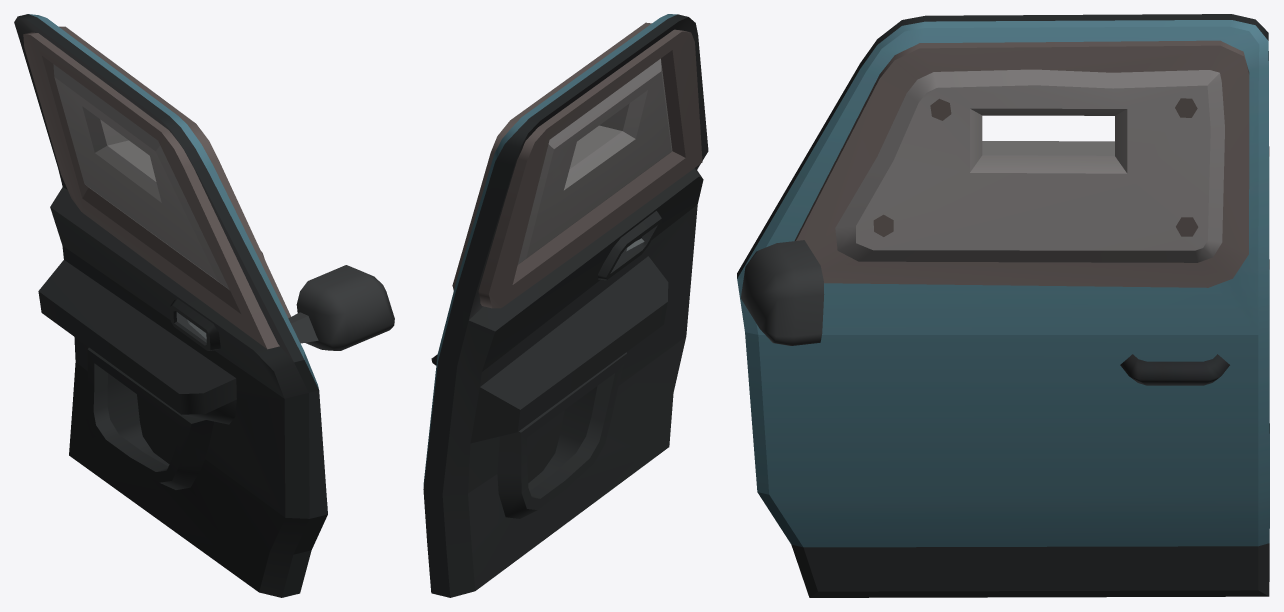
The model's file is Apocalypse_Car_01_Door_L.fbx.
3 views of the same model, side by side, from view 1: azimuth 30°, elevation 25°; view 2: azimuth 150°, elevation 25°; view 3: azimuth 270°, elevation 25° (orthographic). The views are drawn at different scales.
Visible parts, largest first — view 1: Apocalypse_Car_01_Door_L; view 2: Apocalypse_Car_01_Door_L; view 3: Apocalypse_Car_01_Door_L.
Part boxes in pixels (x1,y1,x2,y2): Apocalypse_Car_01_Door_L: [14, 14, 394, 597]; Apocalypse_Car_01_Door_L: [423, 14, 708, 597]; Apocalypse_Car_01_Door_L: [737, 14, 1269, 597].
Size of the model in its own units: 51.97 by 121 by 133.
